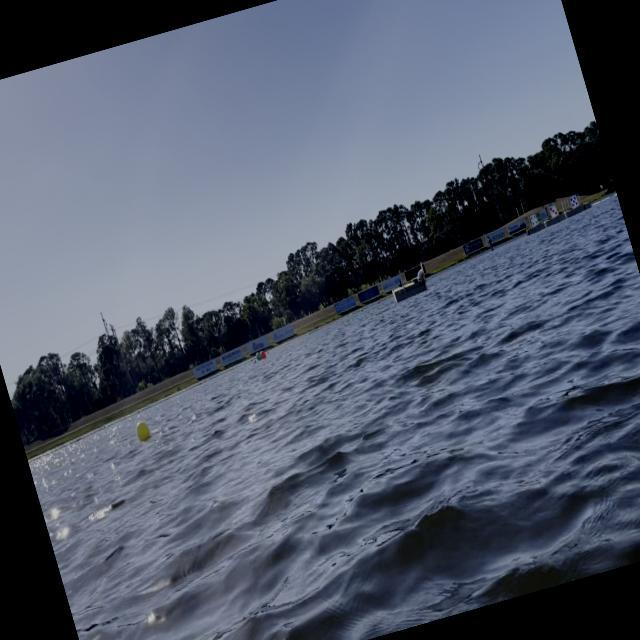buoy: (129, 413, 154, 446), (258, 347, 268, 359), (254, 350, 262, 361)
